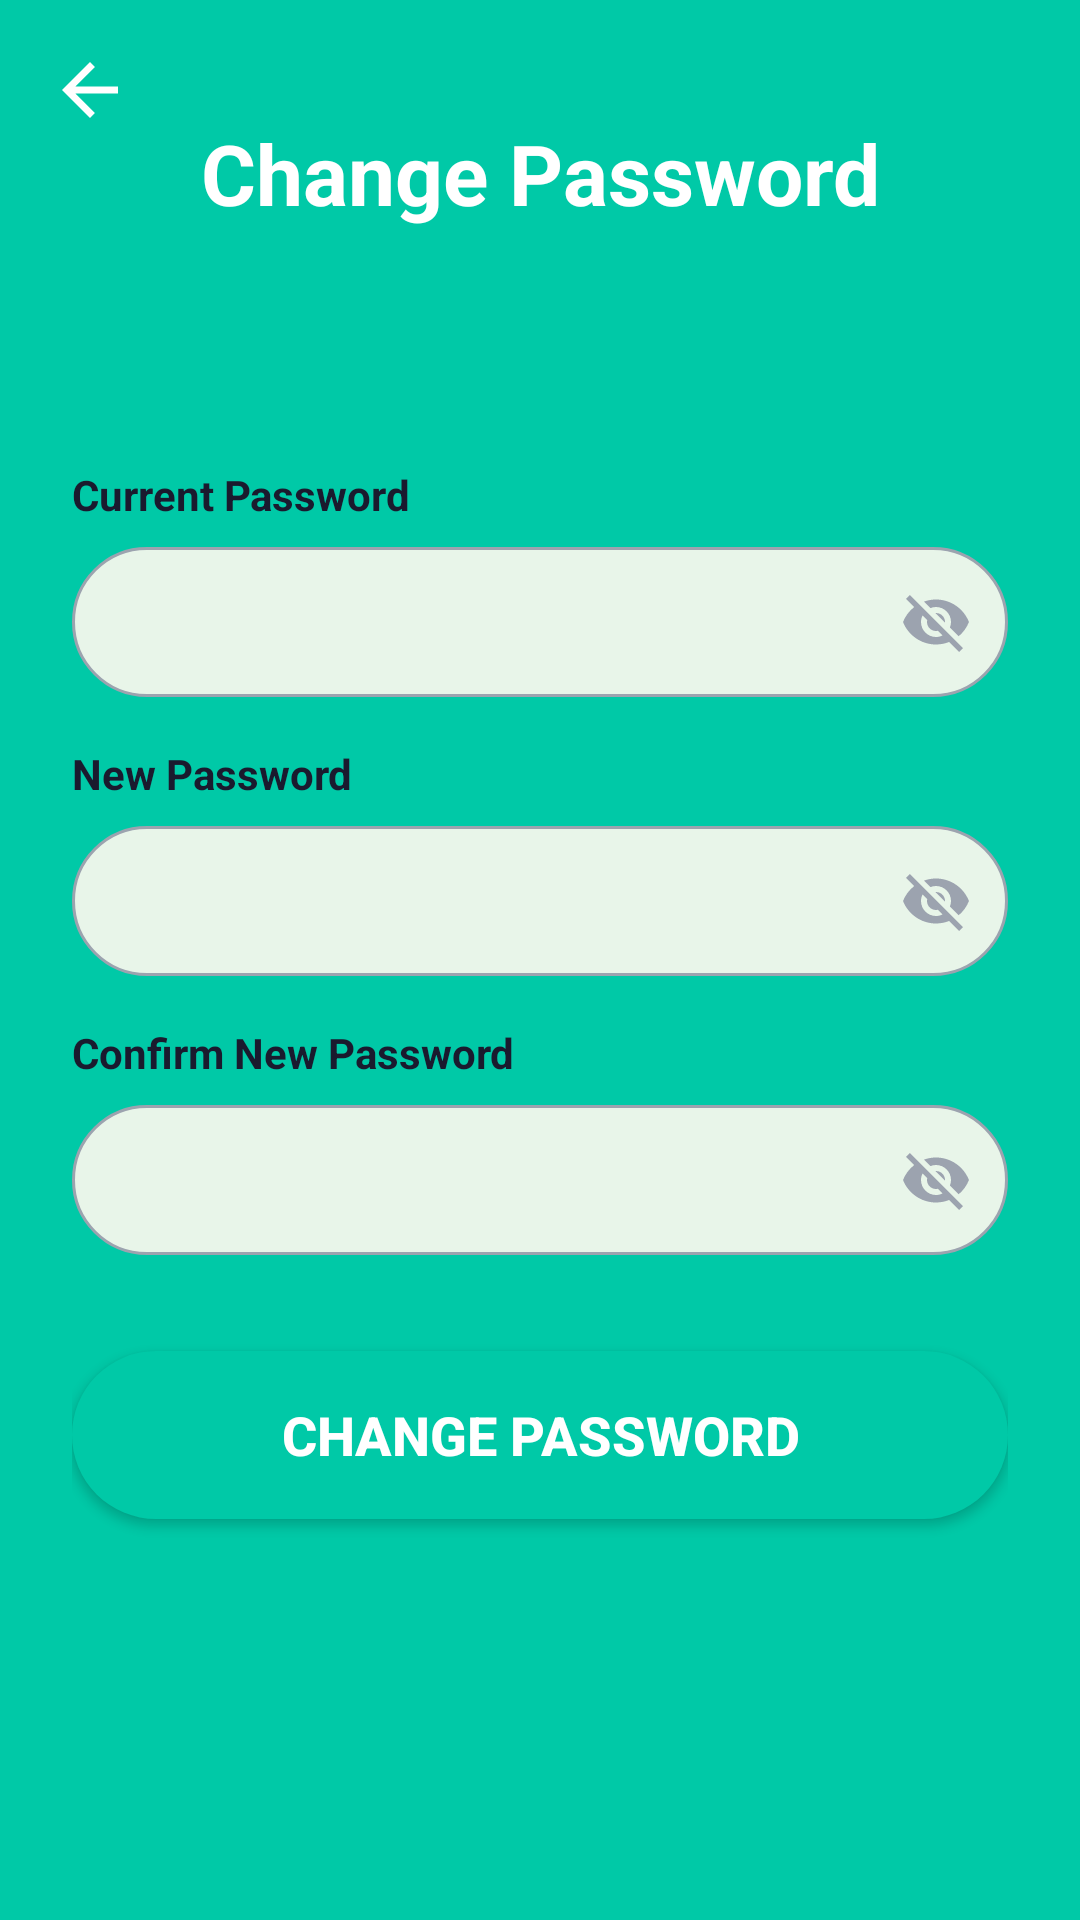

Point at icon controls on the screen. Image size 1080×1920, points as [x,y].
Back: [90,90]
